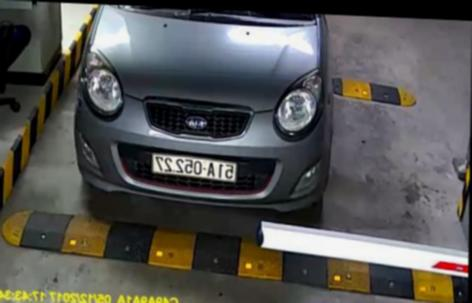License_Plate: (147, 151, 243, 183)
